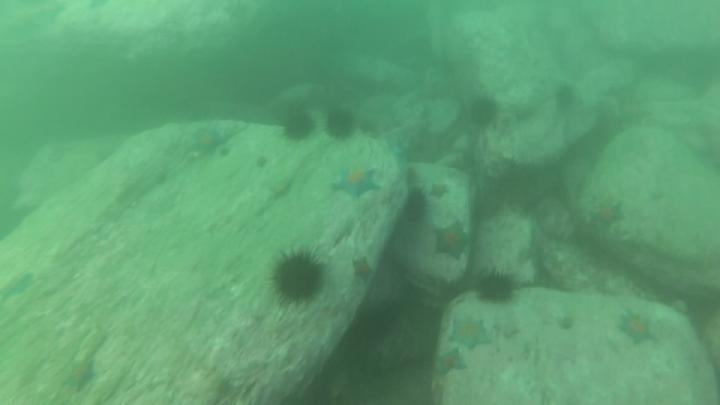echinus: (267, 246, 329, 307), (473, 268, 519, 307), (278, 106, 317, 144), (323, 106, 359, 143), (465, 93, 501, 130), (400, 186, 431, 226), (551, 81, 580, 114)
starfish: (329, 162, 382, 202), (614, 308, 661, 348), (447, 314, 494, 353), (430, 220, 473, 262), (186, 123, 231, 159), (60, 354, 100, 393), (587, 197, 627, 233), (0, 268, 37, 305), (432, 345, 469, 380), (264, 173, 298, 203), (349, 254, 378, 286), (427, 180, 451, 201)
